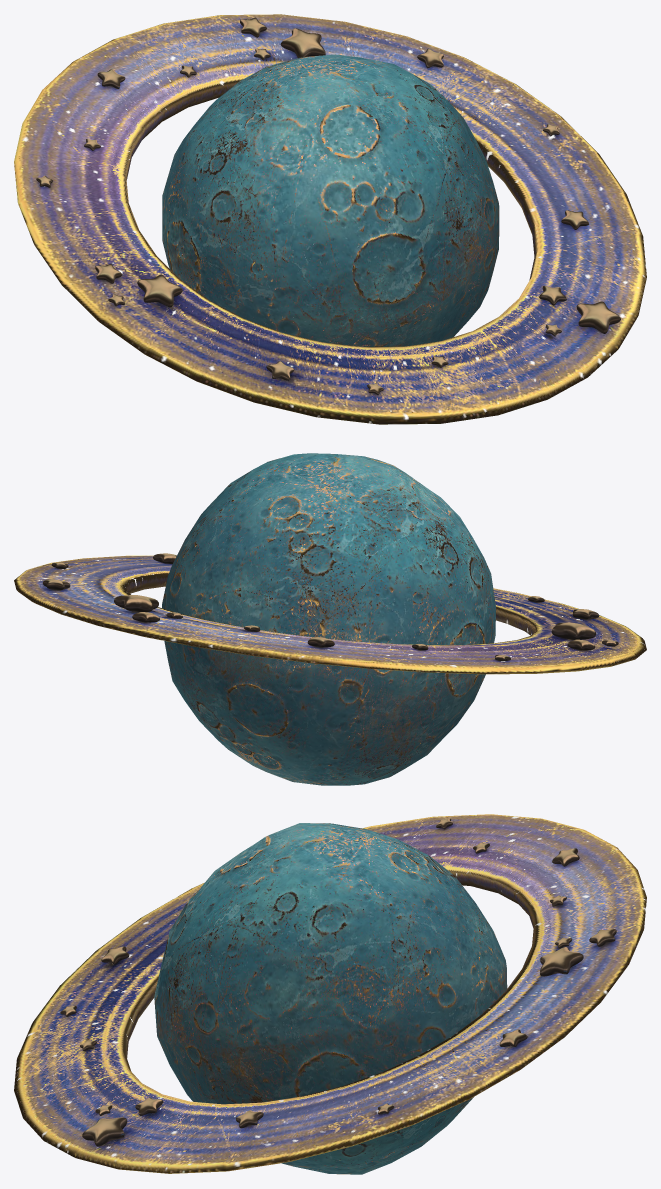
Rendered from planet_art_3d_model.glb.
3 views of the same model, one above another, from view 1: azimuth 30°, elevation 25°; view 2: azimuth 150°, elevation 25°; view 3: azimuth 270°, elevation 25° (orthographic). The views are drawn at different scales.
Visible parts, largest first — view 1: Material0-material-material (×2); view 2: Material0-material-material (×2); view 3: Material0-material-material (×2).
Part boxes in pixels (x1,y1,x2,y2): Material0-material-material (×2): (14,14,646,424); Material0-material-material (×2): (14,453,646,785); Material0-material-material (×2): (14,814,646,1174).
Size of the model in its own units: 0.097 by 0.0512 by 0.0924.
1 material, 1 textured.
